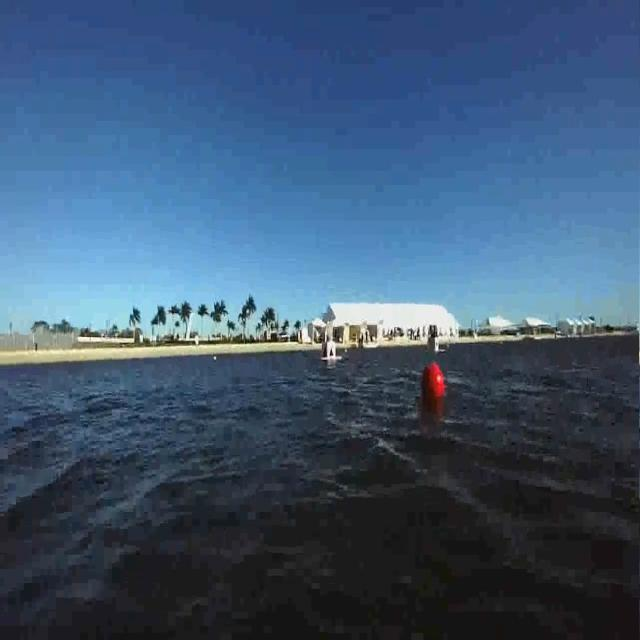red-buoy: (420, 362, 445, 403)
